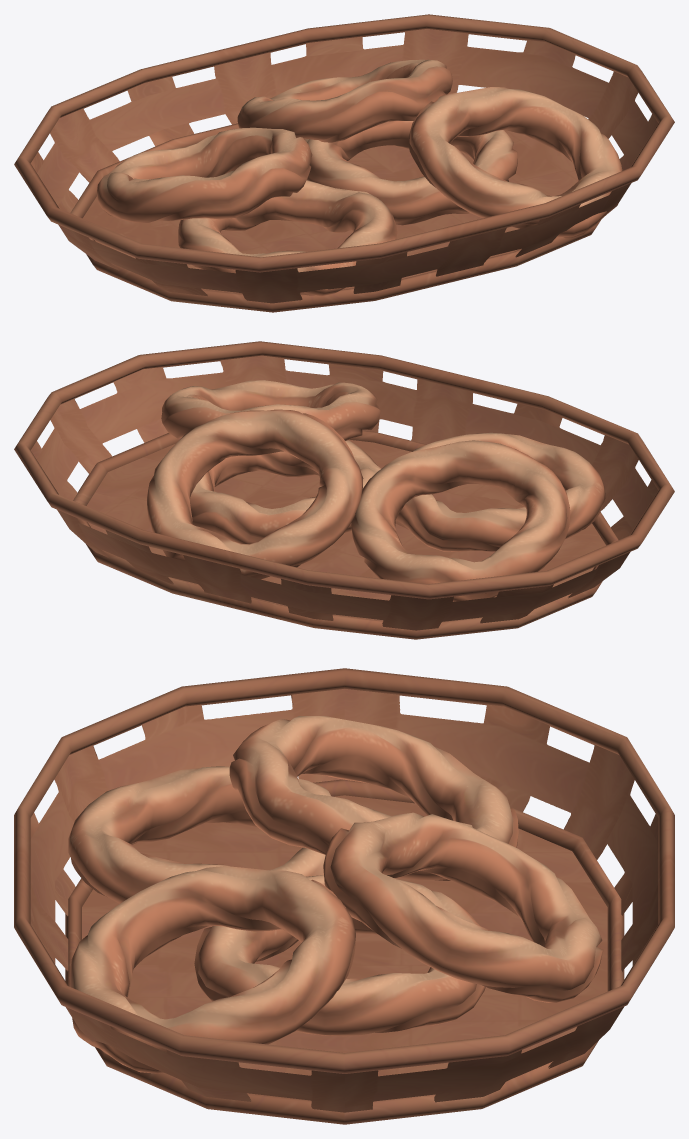
File: rings_basket.fbx
3 views of the same model, one above another, from view 1: azimuth 30°, elevation 25°; view 2: azimuth 150°, elevation 25°; view 3: azimuth 270°, elevation 25° (orthographic). The views are drawn at different scales.
Parts seen in each view (by area): view 1: basket_ringes.001; view 2: basket_ringes.001; view 3: basket_ringes.001.
Part boxes in pixels (x1,y1,x2,y2): basket_ringes.001: (14, 14, 674, 312); basket_ringes.001: (14, 341, 674, 639); basket_ringes.001: (14, 668, 674, 1124).
Size of the model in its own units: 46.9 by 8.64 by 33.29.
